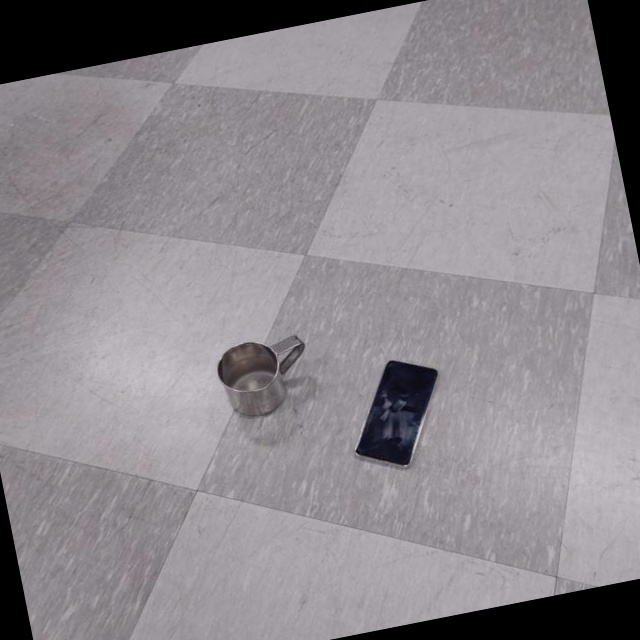cup: (211, 331, 314, 424)
phone: (339, 352, 456, 477)
